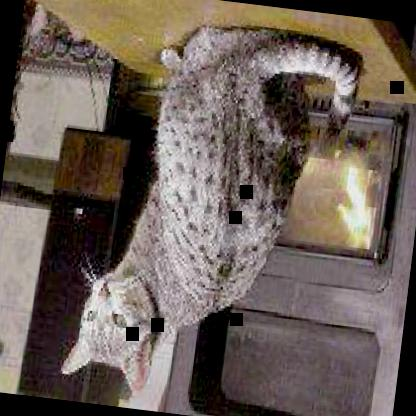cat: (59, 12, 364, 416)
